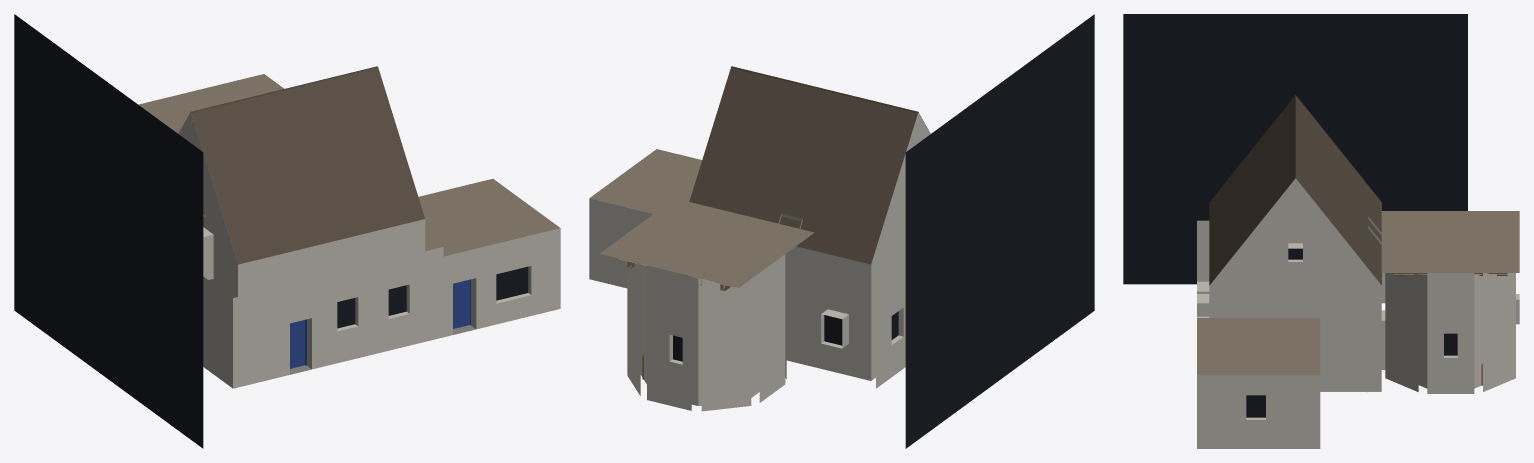
Rendered from alchimist_innen.glb.
3 views of the same model, side by side, from view 1: azimuth 30°, elevation 25°; view 2: azimuth 150°, elevation 25°; view 3: azimuth 270°, elevation 25° (orthographic). The views are drawn at different scales.
Visible parts, largest first — view 1: Himmel_Lager, Decke_Lager, Raum_Werk, Raum_Laden, Raum_Lager, Decke_Laden, Decke_Turm, Holztuer; view 2: Himmel_Lager, Decke_Lager, Raum_Turm, Decke_Turm, Raum_Werk, Raum_Lager, Decke_Laden, Raum_Laden; view 3: Himmel_Lager, Raum_Turm, Raum_Lager, Decke_Lager, Raum_Laden, Decke_Turm, Decke_Laden, Raum_Werk.
Boxes of the visible parts, x1,y1,x2,y2 form: Himmel_Lager: [14, 14, 203, 448]; Decke_Lager: [178, 66, 424, 264]; Raum_Werk: [203, 247, 443, 388]; Raum_Laden: [443, 228, 560, 337]; Raum_Lager: [178, 112, 425, 296]; Decke_Laden: [418, 178, 559, 256]; Decke_Turm: [138, 74, 284, 133]; Holztuer: [290, 319, 306, 368]; Himmel_Lager: [905, 14, 1094, 448]; Decke_Lager: [689, 66, 928, 264]; Raum_Turm: [627, 253, 786, 411]; Decke_Turm: [599, 198, 814, 291]; Raum_Werk: [786, 273, 905, 388]; Raum_Lager: [778, 112, 930, 297]; Decke_Laden: [589, 149, 701, 213]; Raum_Laden: [589, 198, 652, 288]; Himmel_Lager: [1123, 14, 1467, 284]; Raum_Turm: [1385, 273, 1519, 393]; Raum_Lager: [1209, 178, 1381, 315]; Decke_Lager: [1209, 95, 1381, 285]; Raum_Laden: [1197, 375, 1320, 448]; Decke_Turm: [1381, 211, 1519, 275]; Decke_Laden: [1197, 318, 1320, 375]; Raum_Werk: [1197, 220, 1385, 391].
Bounding box in the file's own units: 17 × 12.12 × 16.1.
